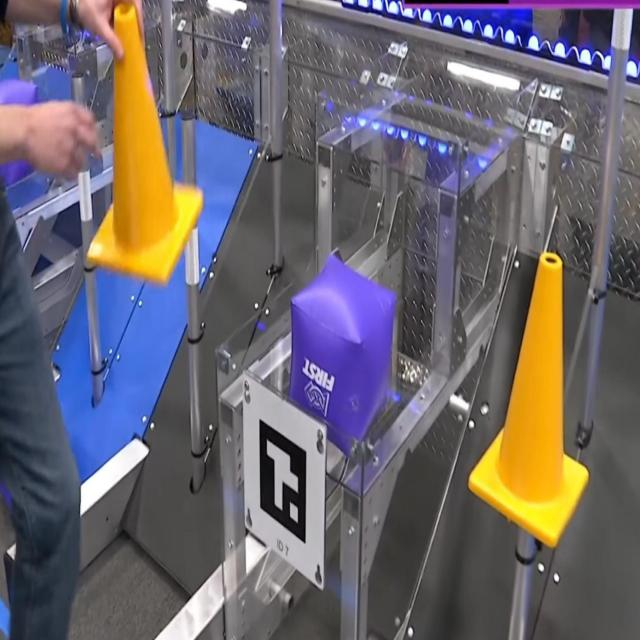frc_cone: (468, 254, 588, 547), (86, 4, 202, 286)
frc_cube: (291, 254, 395, 459), (0, 78, 41, 189)
